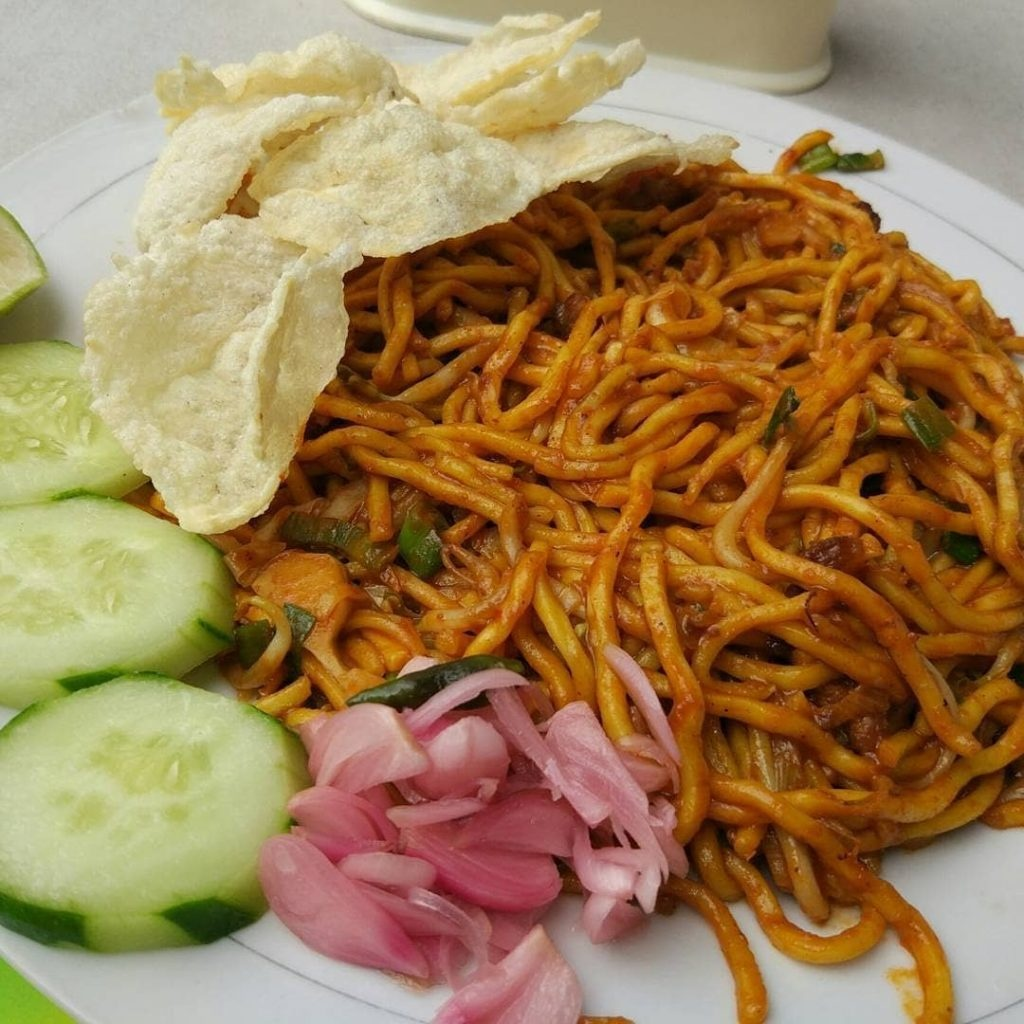mie_aceh: (218, 114, 1024, 1017)
